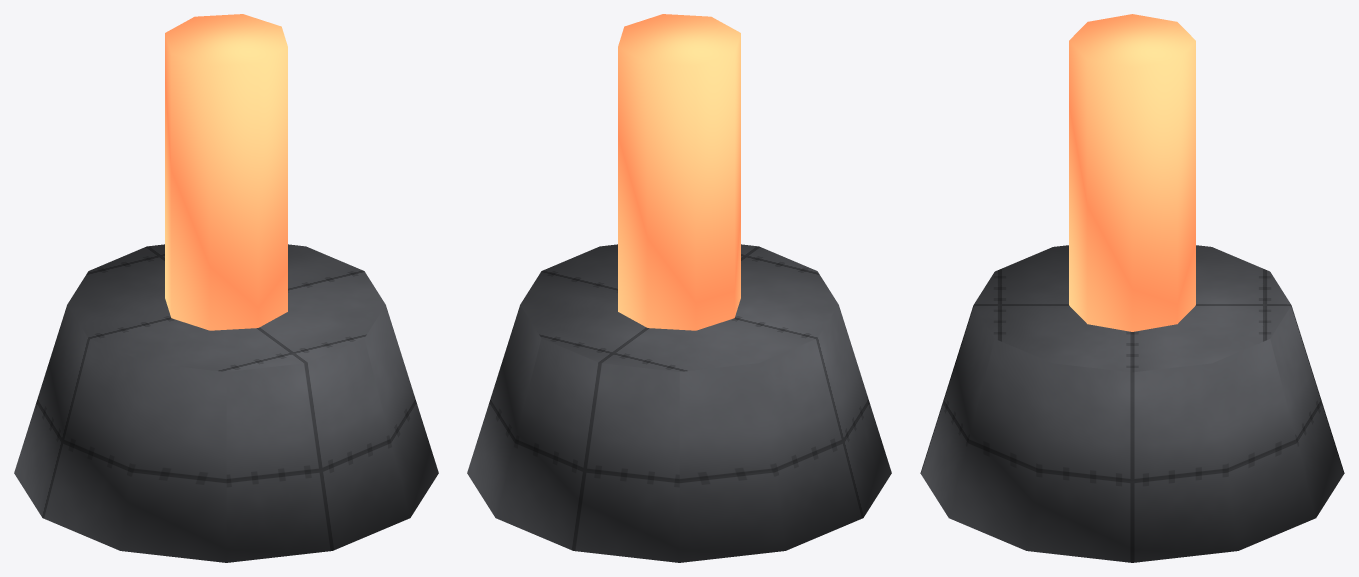
File: marker_hit.gltf
3 renders of one model, left to right at view 1: azimuth 30°, elevation 25°; view 2: azimuth 150°, elevation 25°; view 3: azimuth 270°, elevation 25°, orthographic.
Parts seen in each view (by area): view 1: marker_hit_body; view 2: marker_hit_body; view 3: marker_hit_body.
Part boxes in pixels (bbox=[...]): marker_hit_body: bbox=[14, 14, 438, 562]; marker_hit_body: bbox=[467, 14, 891, 562]; marker_hit_body: bbox=[920, 14, 1344, 562].
Bounding box in the file's own units: 0.8 × 0.9 × 0.8.
Materials: 2 (1 with a texture image).
